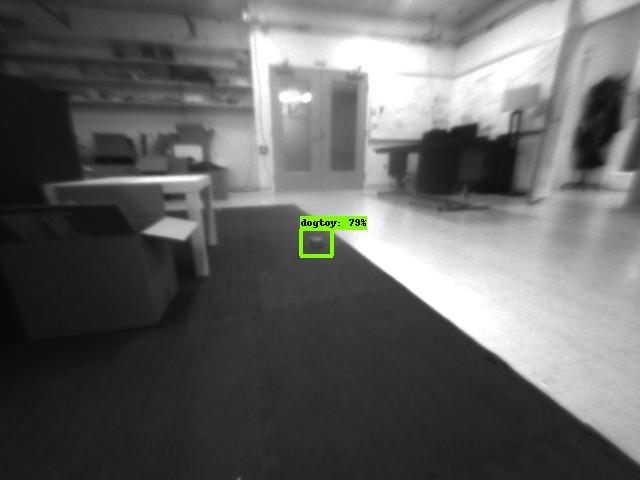dogtoy: (302, 229, 334, 253)
